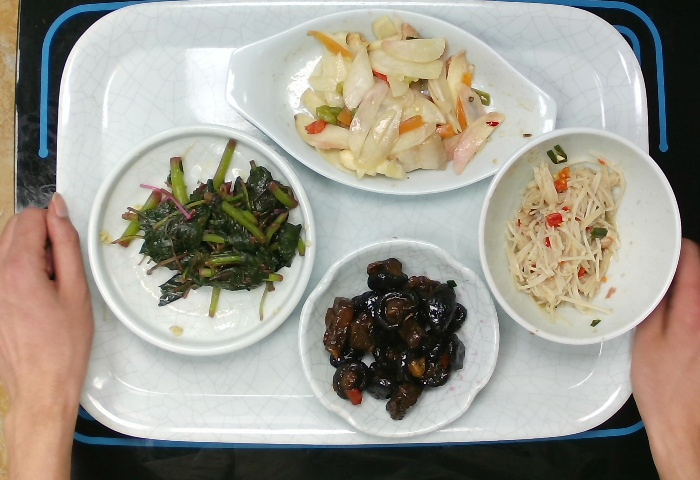JYsf-Ao_Yuan_Wan: (295, 236, 504, 442)
JYsf-Fan_Wan: (473, 123, 686, 349)
JYsf-Xiao_Yuan_Pan: (83, 121, 320, 360)
JYsf-Yu_Pan: (221, 5, 562, 198)
